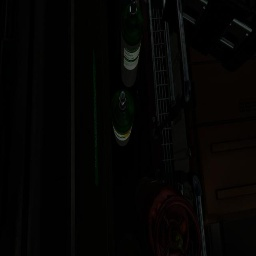0: (121, 0, 143, 87), (110, 89, 135, 146)
NitrogenTank ,: (134, 177, 202, 256), (117, 233, 141, 256)
